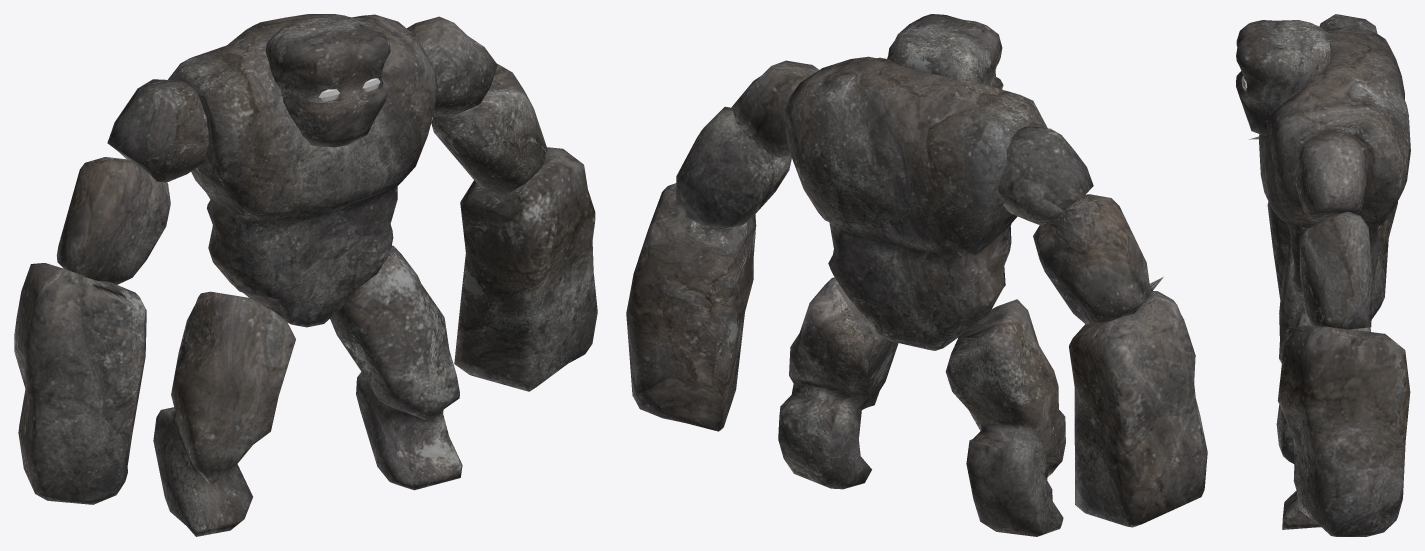
The model's file is jump_000001.obj.
3 views of the same model, side by side, from view 1: azimuth 30°, elevation 25°; view 2: azimuth 150°, elevation 25°; view 3: azimuth 270°, elevation 25° (orthographic). The views are drawn at different scales.
Visible parts, largest first — view 1: hands&leg.001_ice.003, torso.001_ice.005, head.001_ice.004; view 2: hands&leg.001_ice.003, torso.001_ice.005, head.001_ice.004; view 3: hands&leg.001_ice.003, torso.001_ice.005, head.001_ice.004.
Part boxes in pixels (bbox=[...]): hands&leg.001_ice.003: bbox=[14, 16, 597, 536]; torso.001_ice.005: bbox=[168, 14, 437, 327]; head.001_ice.004: bbox=[265, 17, 390, 147]; hands&leg.001_ice.003: bbox=[626, 60, 1207, 536]; torso.001_ice.005: bbox=[784, 56, 1047, 350]; head.001_ice.004: bbox=[887, 14, 1003, 89]; hands&leg.001_ice.003: bbox=[1249, 14, 1410, 536]; torso.001_ice.005: bbox=[1259, 25, 1410, 308]; head.001_ice.004: bbox=[1236, 20, 1331, 135].
Bounding box in the file's own units: 11.9 × 9.58 × 3.41.
2 materials, 1 textured.
